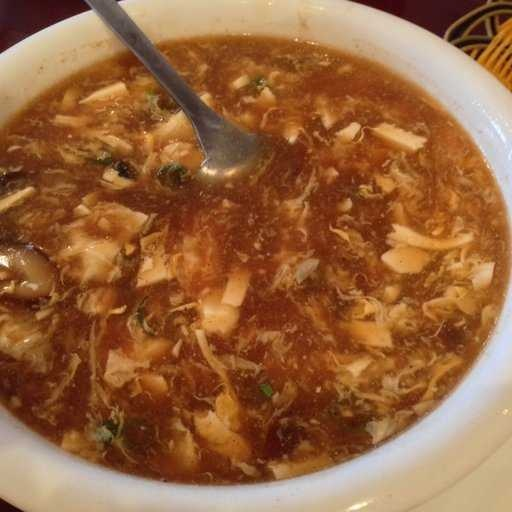soup: (1, 41, 486, 474)
